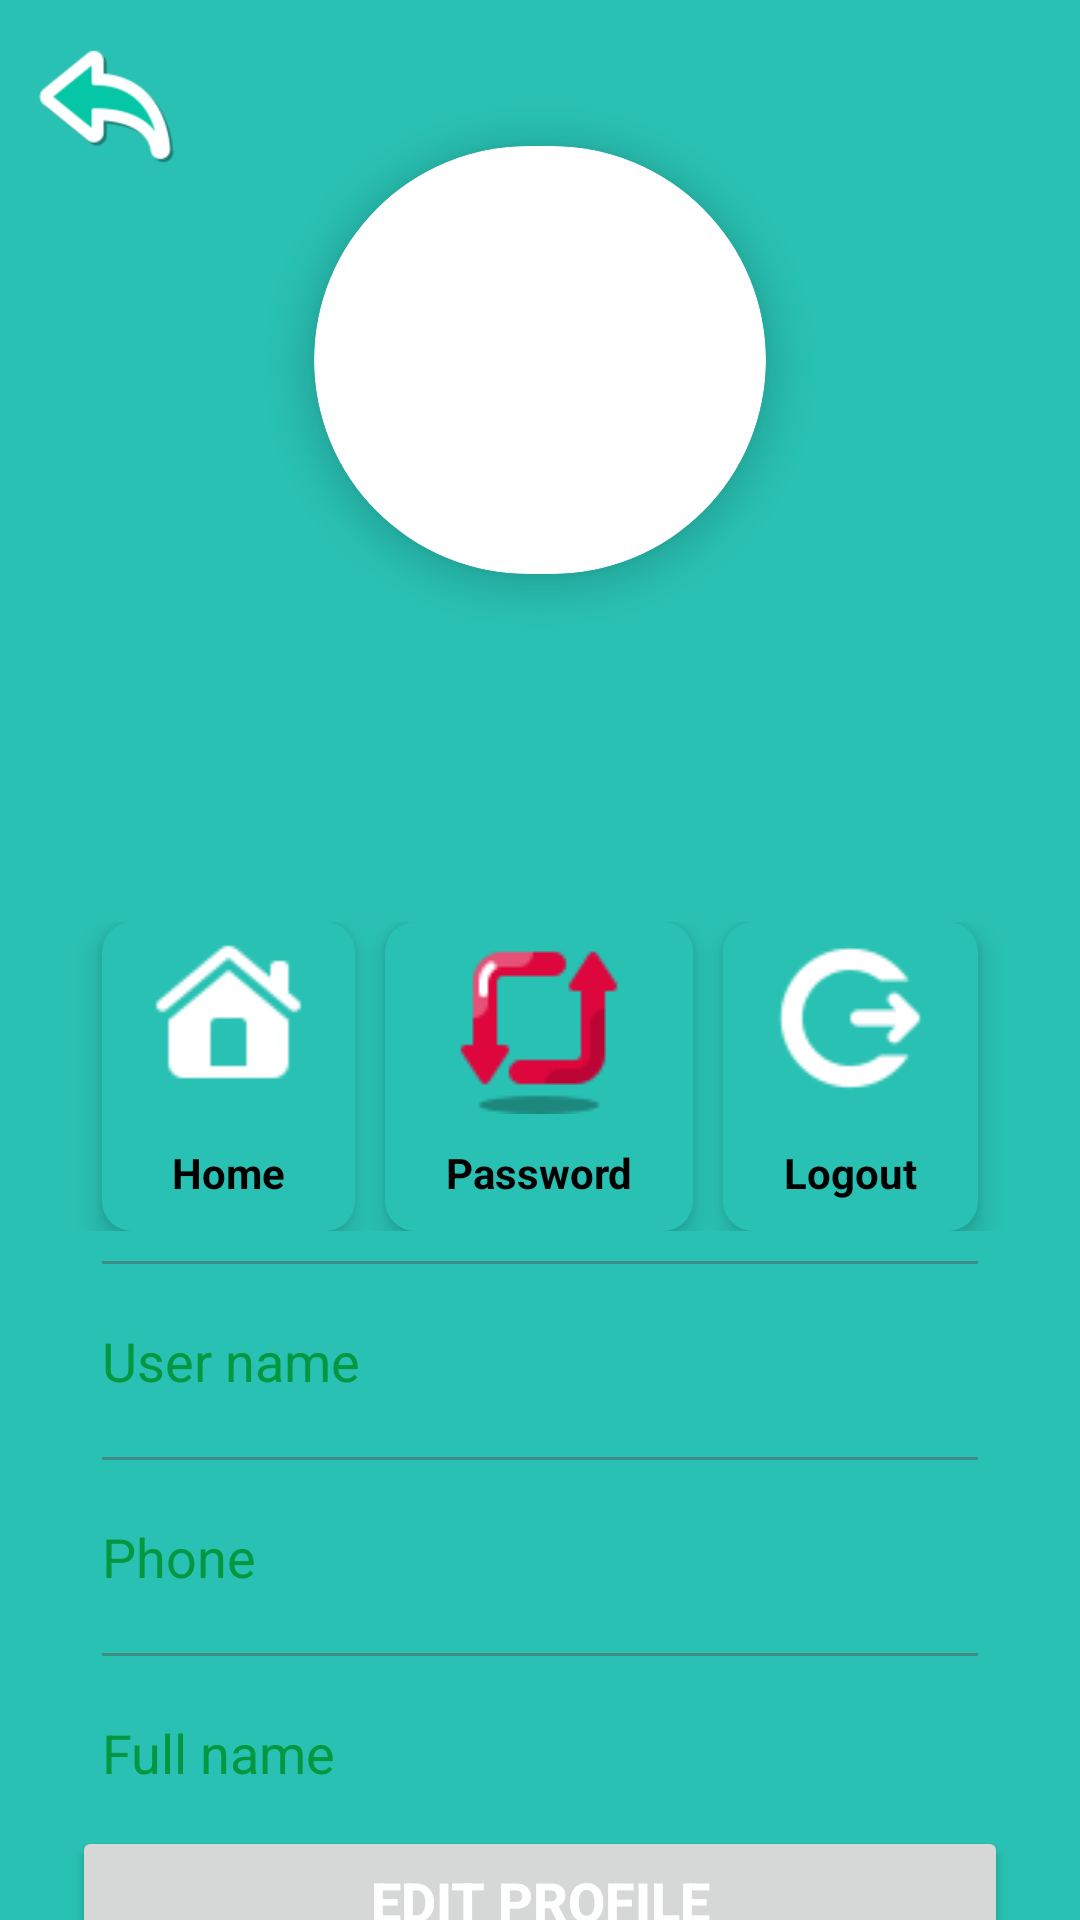

Icons on this 1080*1920 Android screen, each with its box as (x1, y1, x2, y2):
back: (39, 50, 173, 162)
reset: (460, 951, 618, 1114)
